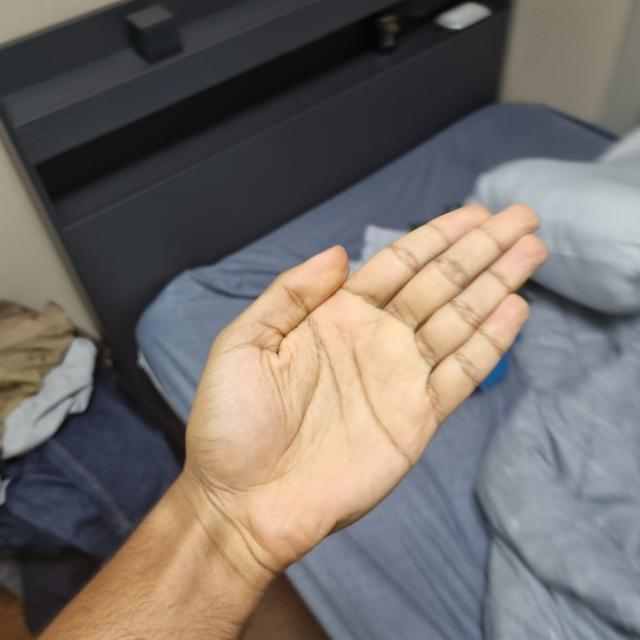Paper: (185, 252, 438, 553)
